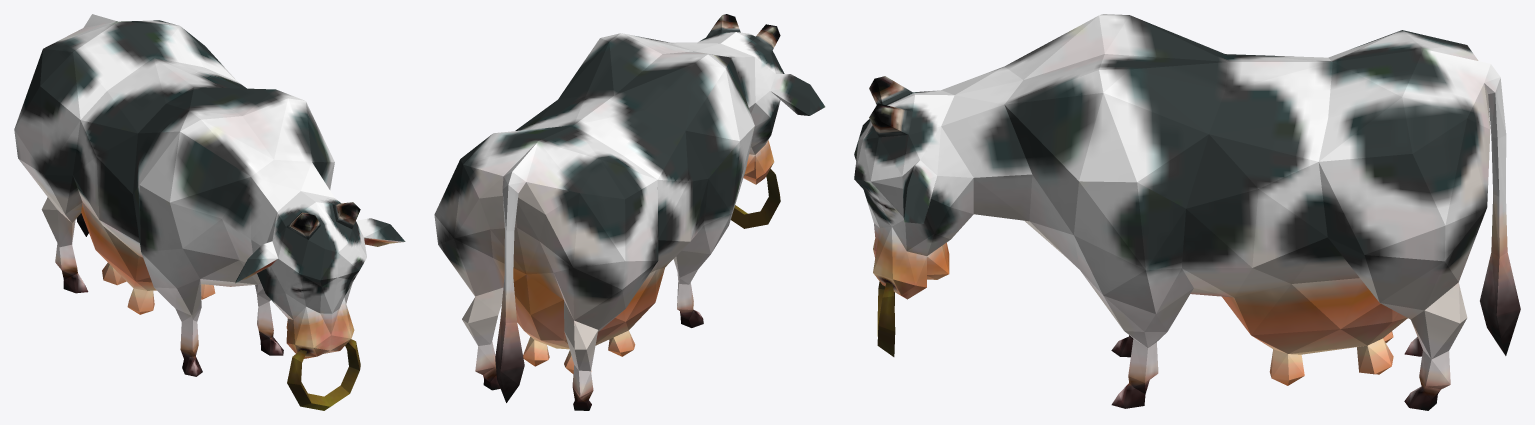
Rendered from cow.gltf.
3 views of the same model, side by side, from view 1: azimuth 30°, elevation 25°; view 2: azimuth 150°, elevation 25°; view 3: azimuth 270°, elevation 25° (orthographic). The views are drawn at different scales.
Visible parts, largest first — view 1: cow; view 2: cow; view 3: cow.
Boxes of the visible parts, <box> form: cow: <box>14,14,405,410</box>; cow: <box>434,14,825,410</box>; cow: <box>854,14,1520,410</box>.
Size of the model in its own units: 0.9961 by 1.28 by 2.31.
Materials: 1 (1 with a texture image).
